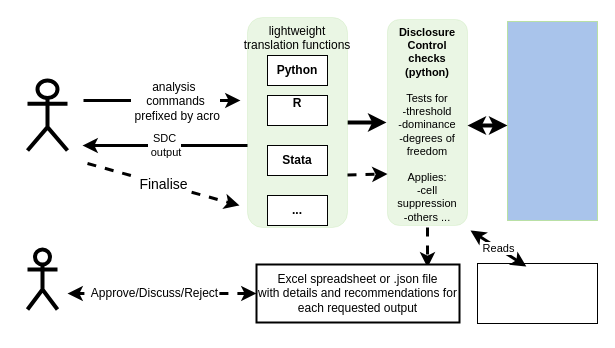
The diagram is 615 pixels wide and 348 high, and some of its shapes have lost their labels. The shapes that lost their labels are listed below. From the top down, each one's centre as x and y in pixels, then its label:
At point (47, 115): "researcher".
At point (552, 120): "Standard Python Libraries: pandas for tables statsmodels for regression".
At point (42, 279): "TRE staff".
At point (537, 293): "TRE-specific file detailing risk appetite".
